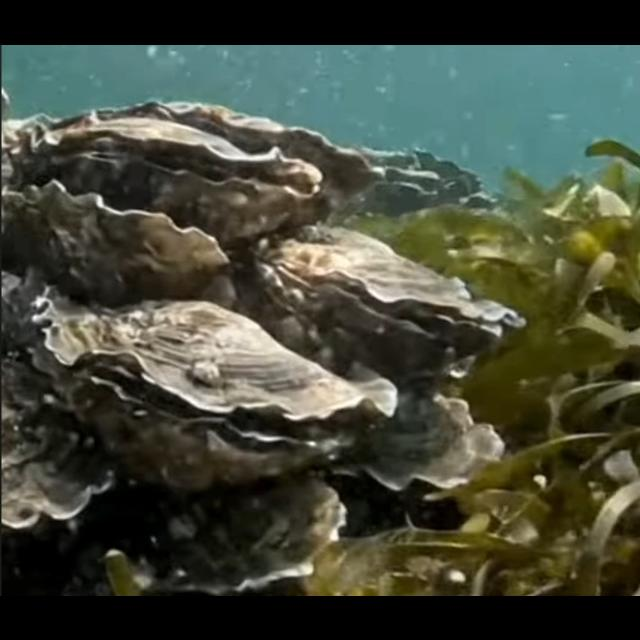Oyster-Closed: (95, 98, 383, 205), (121, 470, 347, 596), (0, 178, 232, 300), (0, 340, 114, 529), (327, 384, 508, 491)
Oyster-Open: (31, 286, 399, 487), (252, 223, 526, 377), (15, 114, 322, 238)
